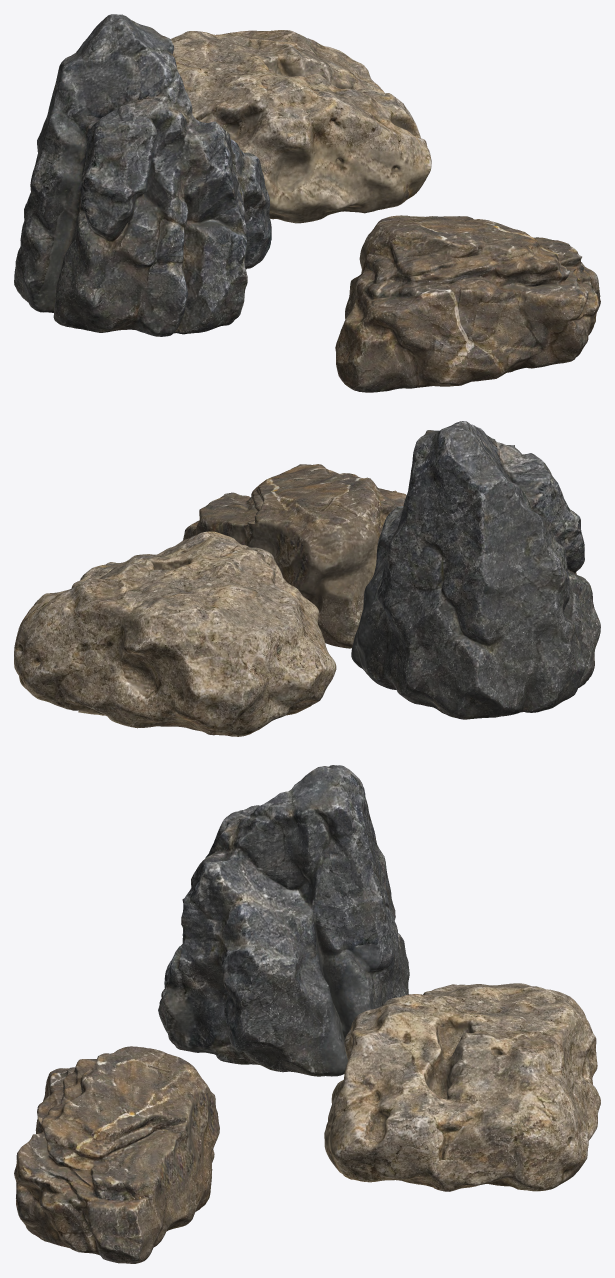
File: stone+rock+3d+model.glb
3 renders of one model, top to bottom at view 1: azimuth 30°, elevation 25°; view 2: azimuth 150°, elevation 25°; view 3: azimuth 270°, elevation 25°, orthographic.
Visible parts, largest first — view 1: tripo_node_79967b4a-be37-4ae7-aff3-62c5483e1028; view 2: tripo_node_79967b4a-be37-4ae7-aff3-62c5483e1028; view 3: tripo_node_79967b4a-be37-4ae7-aff3-62c5483e1028.
Boxes of the visible parts, x1,y1,x2,y2 form: tripo_node_79967b4a-be37-4ae7-aff3-62c5483e1028: (14,14,600,392); tripo_node_79967b4a-be37-4ae7-aff3-62c5483e1028: (14,421,600,736); tripo_node_79967b4a-be37-4ae7-aff3-62c5483e1028: (14,765,600,1263).
Size of the model in its own units: 0.9666 by 0.5942 by 0.9971.
Materials: 1 (1 with a texture image).
